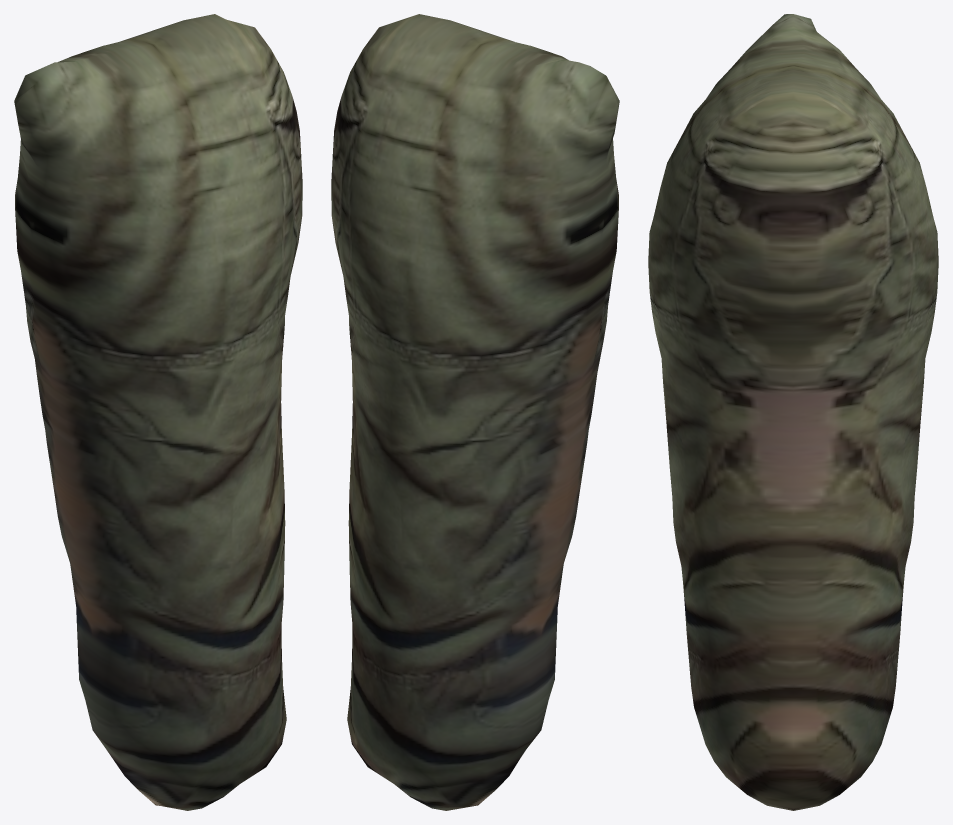
The model's file is lleg.obj.
3 views of the same model, side by side, from view 1: azimuth 30°, elevation 25°; view 2: azimuth 150°, elevation 25°; view 3: azimuth 270°, elevation 25° (orthographic). The views are drawn at different scales.
Bounding box in the file's own units: 0.4486 × 1.22 × 0.438.
